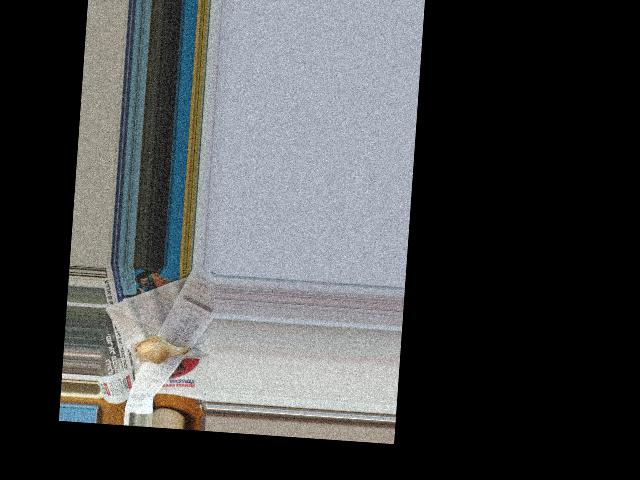onion: (137, 335, 187, 363)
